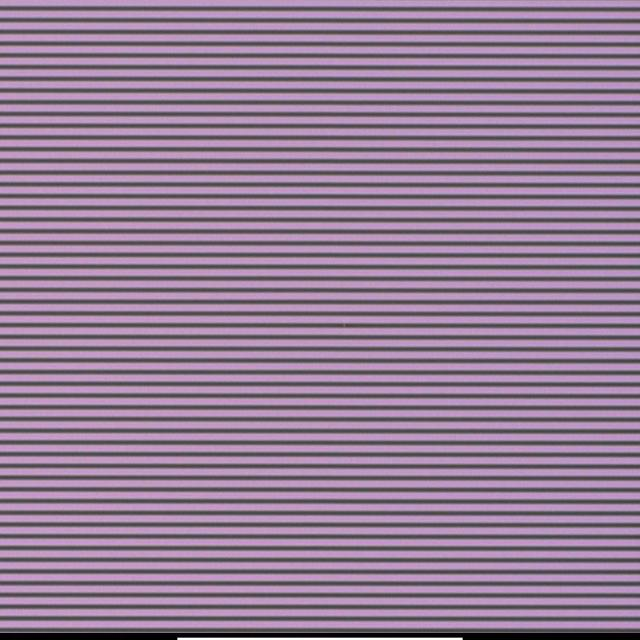03_intrusion: (337, 319, 349, 332)
